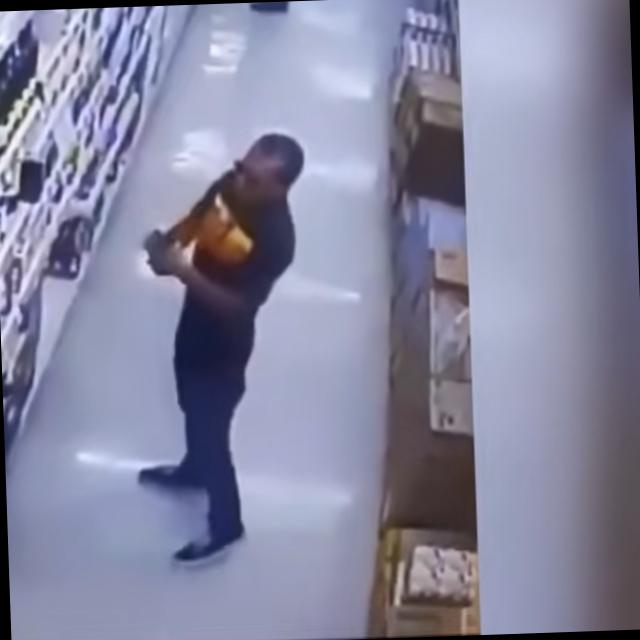person: (125, 129, 320, 566)
